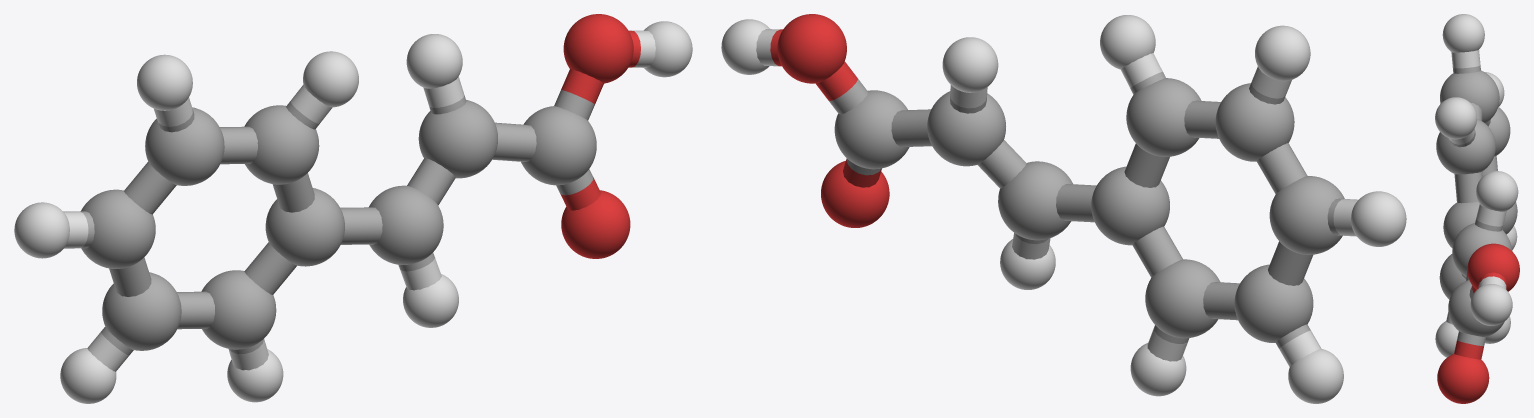
Rendered from 444539-bas-color-print_NIH3D.glb.
3 renders of one model, left to right at view 1: azimuth 30°, elevation 25°; view 2: azimuth 150°, elevation 25°; view 3: azimuth 270°, elevation 25°, orthographic. The views are drawn at different scales.
Visible parts, largest first — view 1: atoms, bonds; view 2: atoms, bonds; view 3: atoms, bonds.
Boxes of the visible parts, <box> form: atoms: <box>14,14,692,403</box>; bonds: <box>63,30,655,371</box>; atoms: <box>721,14,1406,403</box>; bonds: <box>756,29,1358,366</box>; atoms: <box>1435,14,1519,403</box>; bonds: <box>1446,50,1506,359</box>.
Bounding box in the file's own units: 10.02 × 5.4 × 1.45.
